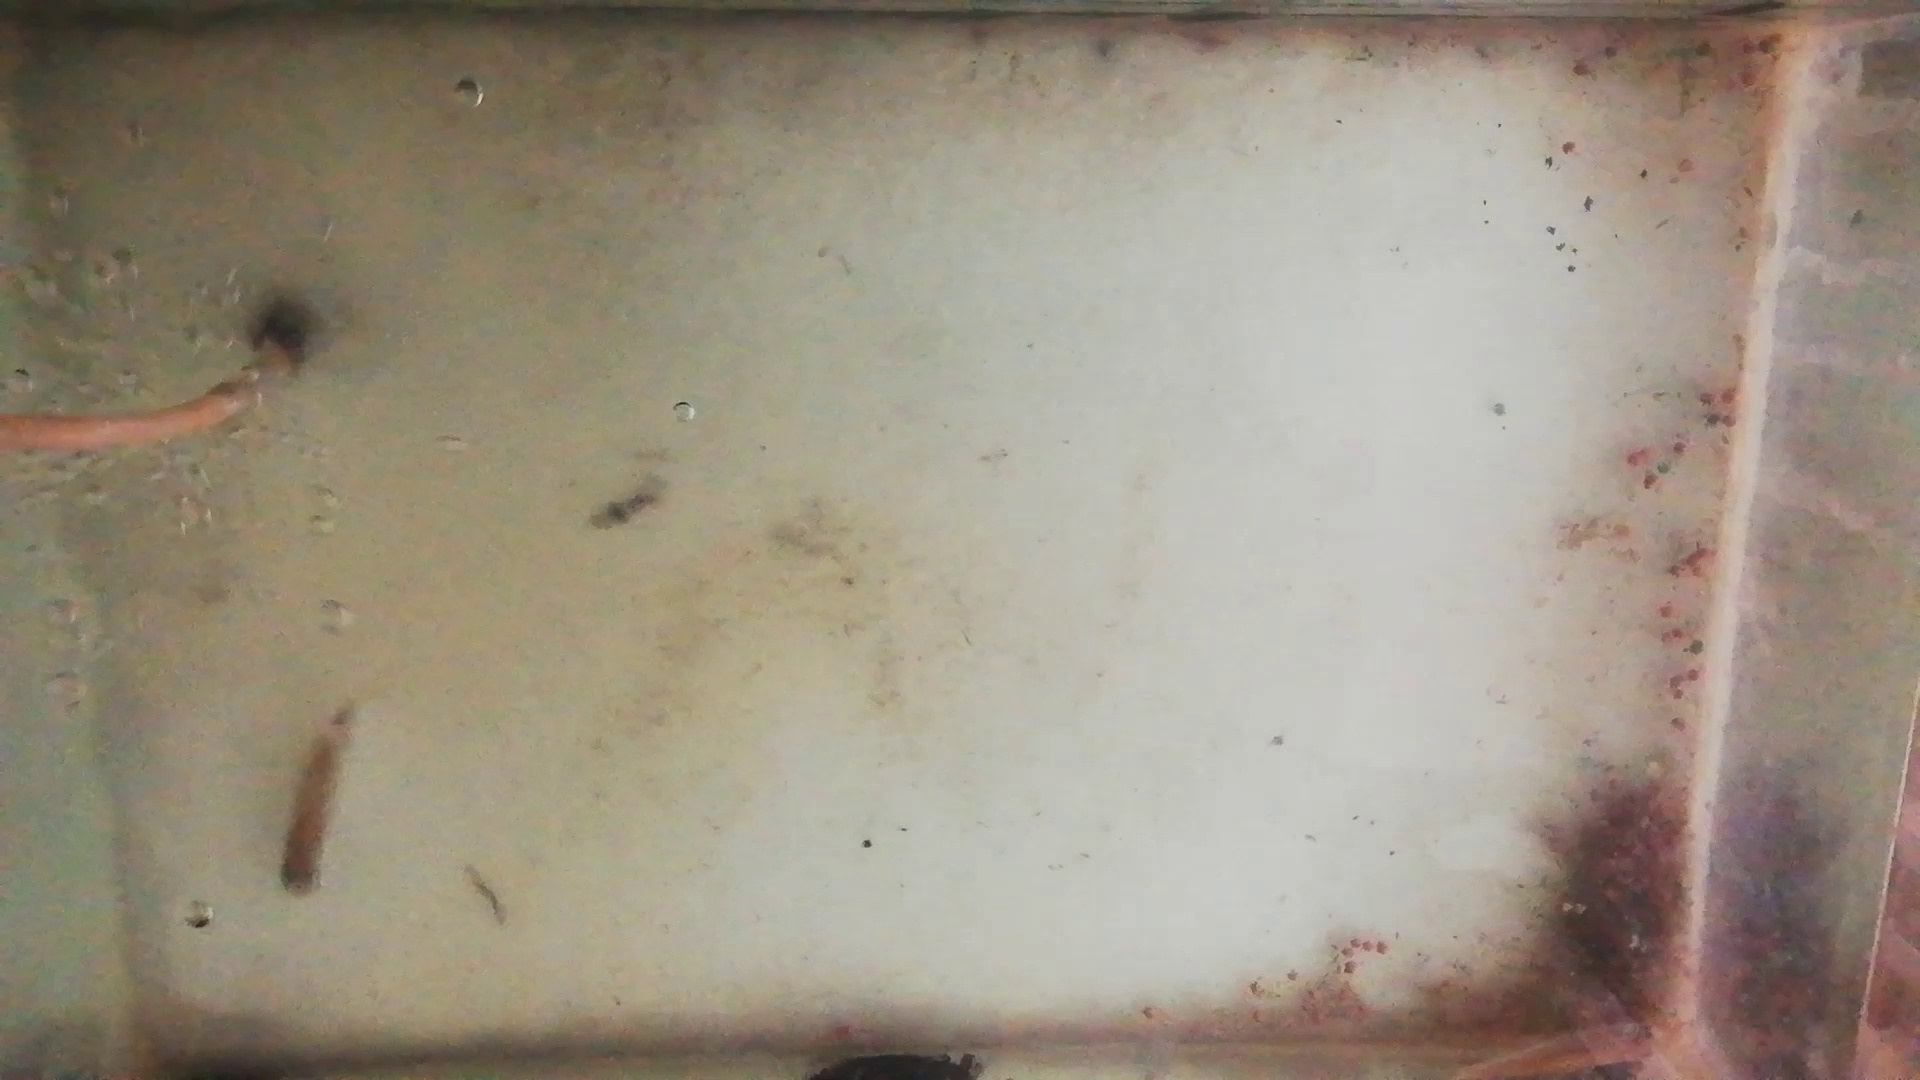fish: (278, 703, 363, 899), (1469, 1036, 1631, 1075)
